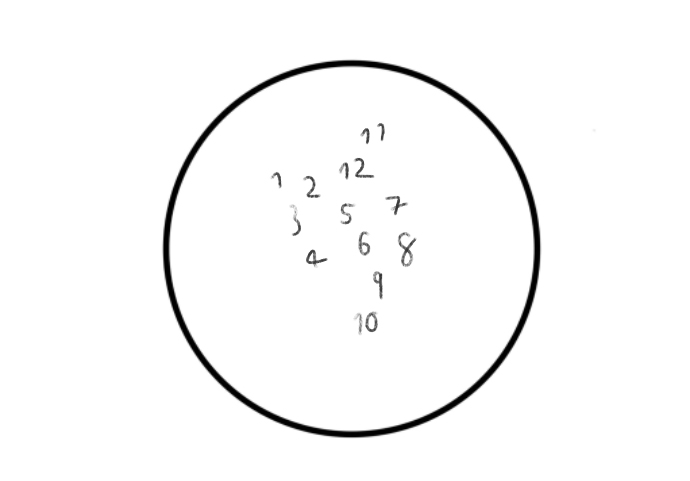eight: (396, 229, 419, 269)
eleven: (359, 120, 387, 145)
five: (337, 201, 358, 228)
four: (303, 247, 329, 271)
nine: (371, 268, 388, 305)
one: (270, 169, 286, 191)
seven: (383, 192, 409, 222)
six: (355, 230, 373, 258)
ten: (354, 309, 383, 336)
three: (287, 203, 303, 240)
twelve: (336, 155, 375, 181)
two: (301, 174, 326, 200)
